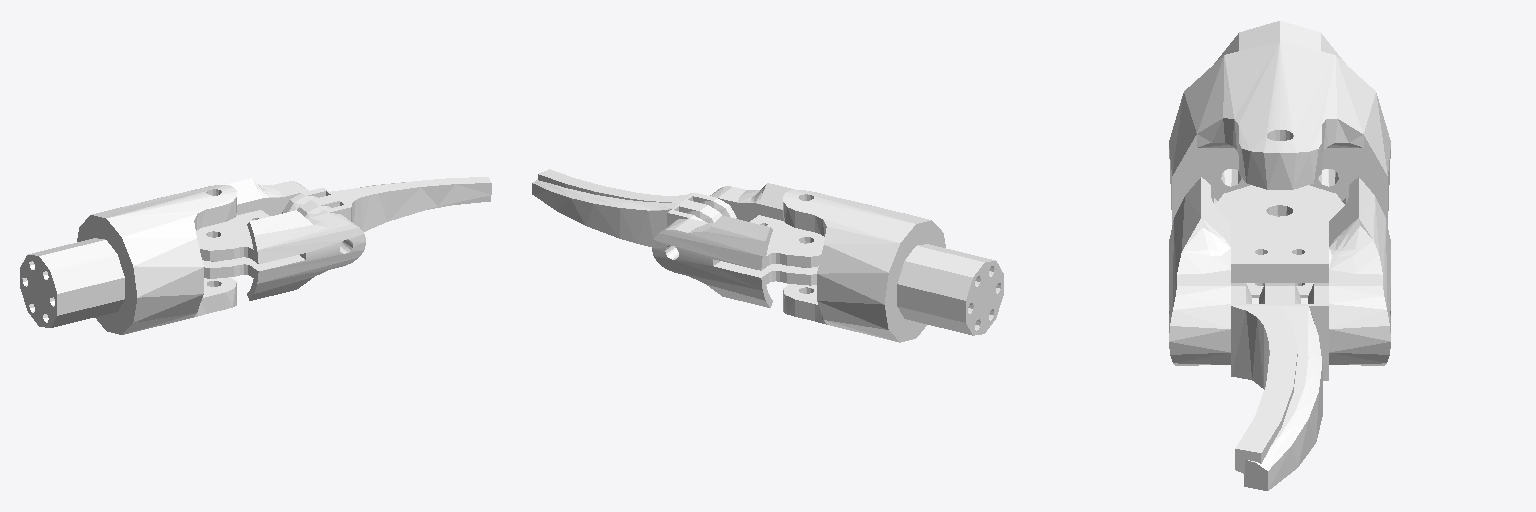
robot.urdf — end_effector:
<?xml version="1.0"?>
<robot name="end_effector">
 
   <material name="gray">
      <color rgba="0.4078 0.4078 0.4078 1"/>
   </material>

   <material name="white">
      <color rgba="1 1 1 1"/>
   </material>
 
   <link name="bot_scissor">
      <inertial>
         <origin rpy="0 0 0" xyz="0.0001 0.0004 0.0115" />
         <mass value="3.28858495027196E-05"/>
         <inertia ixx="5E-10" ixy="0" ixz="0" iyy="5E-10" iyz="0" izz="0" />
      </inertial>
 
      <visual>
         <origin xyz="0 0 0" rpy="3.1416 -1.5708 0"/>
         <geometry>
            <mesh filename="package://surgeon/model/meshes/bot_scissor.stl"/>
         </geometry>
         <material name="white"/>
      </visual>
 
      <collision>
         <geometry>
            <mesh filename="package://surgeon/model/meshes/bot_scissor.stl"/>
         </geometry>
      </collision>
   </link>
 
 
   <link name="top_scissor">
      <inertial>
         <origin rpy="0 0 0" xyz="-0.0001 -0.0007 0.0117" />
         <mass value="3.29063726784052E-05"/>
         <inertia ixx="5E-10" ixy="0" ixz="0" iyy="5E-10" iyz="0" izz="0" />
      </inertial>
 
      <visual>
         <origin xyz="0 0 0" rpy="3.1416 -1.5708 0"/>
         <geometry>
            <mesh filename="package://surgeon/model/meshes/top_scissor.stl"/>
         </geometry>
         <material name="white"/>
      </visual>
 
      <collision>
         <geometry>
            <mesh filename="package://surgeon/model/meshes/top_scissor.stl"/>
         </geometry>
      </collision>
   </link>
 
 
   <link name="head">
      <inertial>
         <origin rpy="0 0 0" xyz="0 0 0.0036" />
         <mass value="0.000145860751538374"/>
         <inertia ixx="2E-09" ixy="0" ixz="0" iyy="1.2E-09" iyz="0" izz="1.1E-09" />
      </inertial>
 
      <visual>
         <origin xyz="0 0 0" rpy="1.5708 1.5708 0"/>
         <geometry>
            <mesh filename="package://surgeon/model/meshes/head.stl"/>
         </geometry>
         <material name="white"/>
      </visual>
 
      <collision>
         <geometry>
            <mesh filename="package://surgeon/model/meshes/head.stl"/>
         </geometry>
      </collision>
   </link>
 
 
   <link name="base">
      <inertial>
         <origin rpy="0 0 0" xyz="0 0 -0.0065" />
         <mass value="0.000324283499010966"/>
         <inertia ixx="4.2E-09" ixy="0" ixz="0" iyy="4.6E-09" iyz="0" izz="2.5E-09" />
      </inertial>
 
      <visual>
         <origin xyz="0 0 0" rpy="0 1.5708 -1.5708"/>
         <geometry>
            <mesh filename="package://surgeon/model/meshes/base.stl"/>
         </geometry>
         <material name="white"/>
      </visual>
 
      <collision>
         <geometry>
            <mesh filename="package://surgeon/model/meshes/base.stl"/>
         </geometry>
      </collision>
   </link>
 
 
   <joint name="Rotational_1" type="continuous">
      <parent link="base"/>
      <child link="head"/>
      <origin xyz="0 0 0" rpy="0 0 0"/>
      <axis xyz="0 0 1"/>
   </joint>
 
 
   <joint name="Rotational_2" type="continuous">
      <parent link="head"/>
      <child link="bot_scissor"/>
      <origin xyz="0.75 -0.0875 0" rpy="1.5708 0 0"/>
      <axis xyz="0 0 1"/>
   </joint>
 
 
   <joint name="Rotational_3" type="continuous">
      <parent link="head"/>
      <child link="top_scissor"/>
      <origin xyz="0.75 0.0875 0" rpy="1.5708 0 0"/>
      <axis xyz="0 0 1"/>
   </joint>
 
 
</robot>

--- Render facts (derived) ---
3 views of the same robot in one strip: view 1: azimuth 30°, elevation 25°; view 2: azimuth 150°, elevation 25°; view 3: azimuth 270°, elevation 25° (orthographic).
Robot: end_effector — 4 links, 3 joints (3 continuous); root link base; default pose: every joint at zero.
Visible links, largest first — view 1: base, head, bot_scissor, top_scissor; view 2: base, head, top_scissor, bot_scissor; view 3: head, base, bot_scissor, top_scissor.
Link boxes in pixels (bbox=[...]): base: bbox=[20, 185, 236, 334]; head: bbox=[196, 178, 365, 300]; bot_scissor: bbox=[301, 177, 491, 231]; top_scissor: bbox=[282, 182, 490, 213]; base: bbox=[783, 190, 1003, 342]; head: bbox=[652, 183, 824, 307]; top_scissor: bbox=[532, 179, 717, 246]; bot_scissor: bbox=[538, 169, 736, 218]; head: bbox=[1169, 177, 1390, 365]; base: bbox=[1169, 21, 1390, 224]; bot_scissor: bbox=[1231, 283, 1297, 473]; top_scissor: bbox=[1244, 283, 1328, 490].
Bounding box of the posed robot: 3.33 × 0.8 × 0.8 m (x, y, z).
Meshes: 4 distinct files referenced, 4 mesh visuals loaded (4 binary STL).